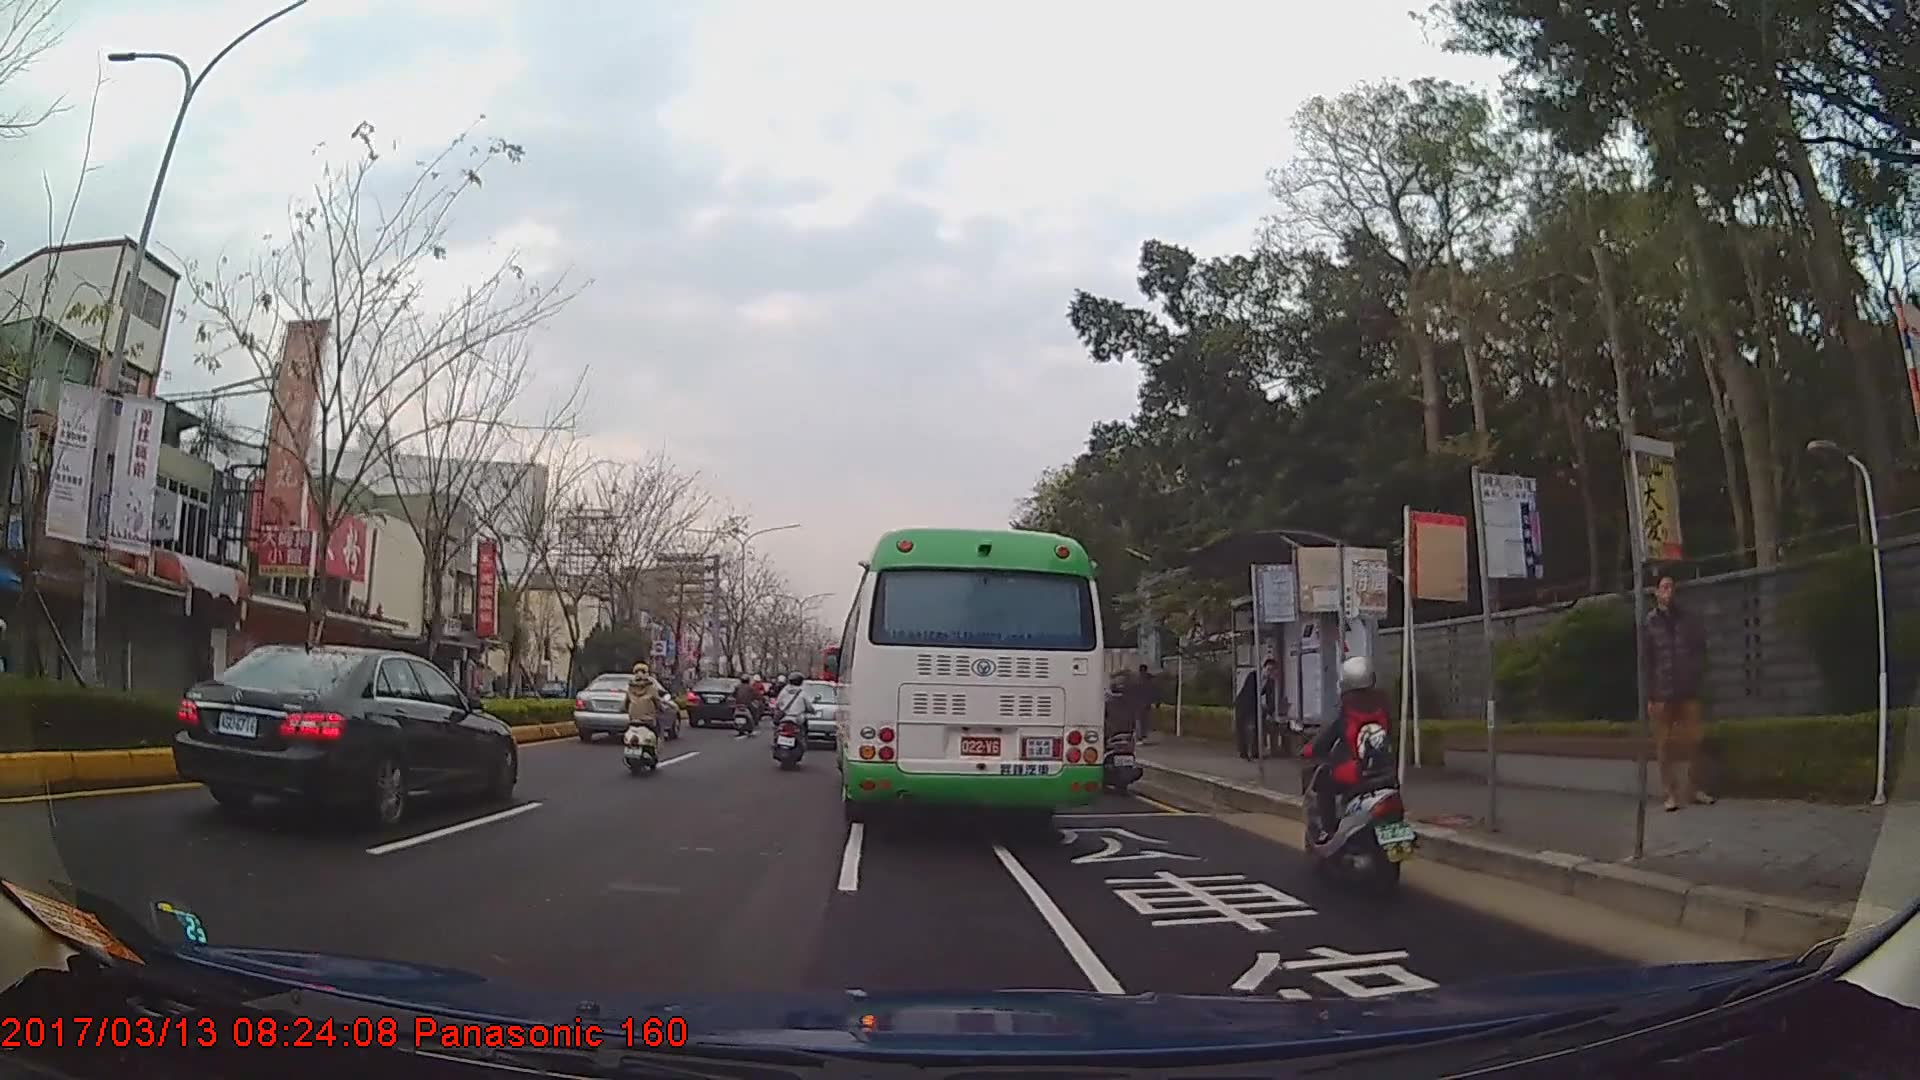pedestrian: (1636, 578, 1711, 813), (1231, 658, 1287, 763), (1128, 663, 1161, 746)
rider: (1300, 656, 1422, 895), (1099, 677, 1153, 798), (624, 663, 672, 776), (775, 673, 820, 772), (732, 675, 762, 736)
vehicle: (835, 528, 1109, 832), (170, 641, 517, 835), (574, 671, 680, 743), (780, 679, 848, 745), (687, 676, 754, 730)
